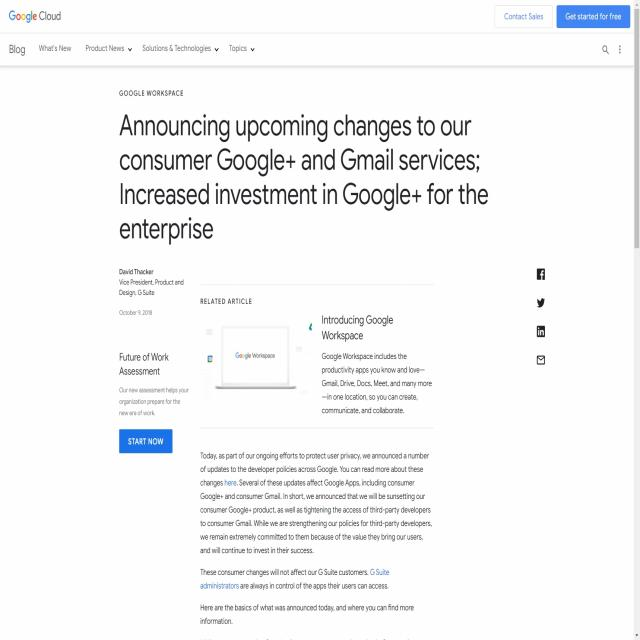menu-bar: (34, 36, 262, 61)
side-panel: (527, 264, 554, 370)
